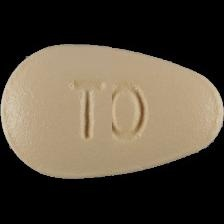64764-560: (0, 0, 224, 224)
